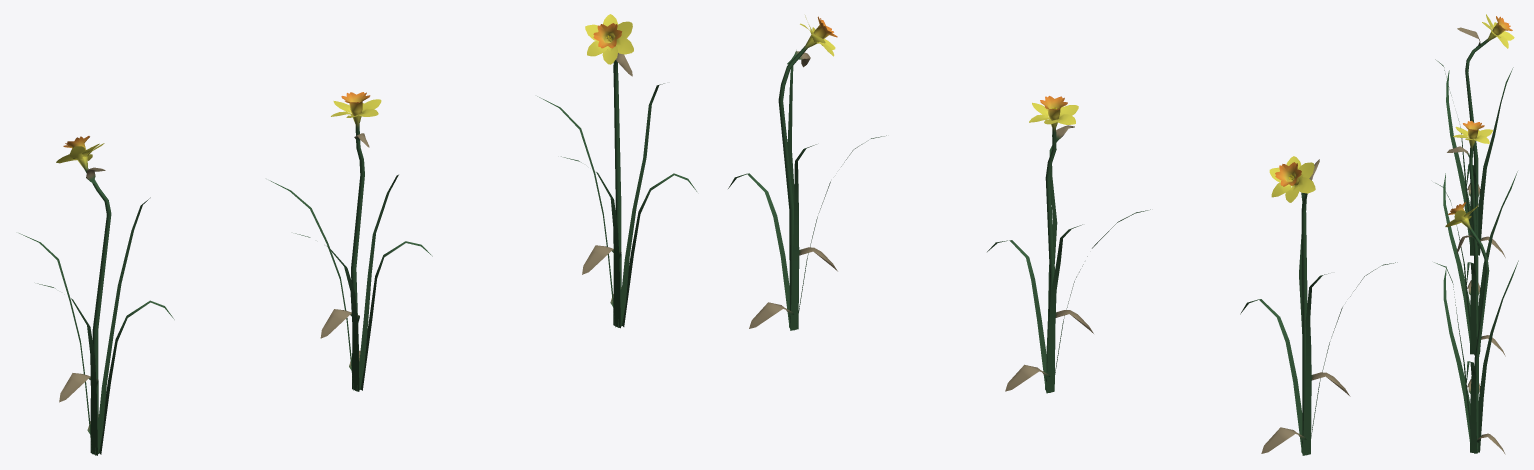
File: Daffodils.fbx
3 views of the same model, side by side, from view 1: azimuth 30°, elevation 25°; view 2: azimuth 150°, elevation 25°; view 3: azimuth 270°, elevation 25° (orthographic). The views are drawn at different scales.
Parts seen in each view (by area): view 1: Daffodil 1, Daffodil 2, Daffodil 3; view 2: Daffodil 2, Daffodil 1, Daffodil 3; view 3: Daffodil 1, Daffodil 3, Daffodil 2.
Part boxes in pixels (box(x1,y1,x2,y2)): Daffodil 1: box(537, 14, 696, 328); Daffodil 2: box(19, 136, 174, 455); Daffodil 3: box(269, 92, 432, 391); Daffodil 2: box(1240, 156, 1397, 455); Daffodil 1: box(728, 15, 886, 330); Daffodil 3: box(987, 96, 1150, 393); Daffodil 1: box(1434, 202, 1518, 454); Daffodil 3: box(1435, 120, 1517, 356); Daffodil 2: box(1435, 14, 1514, 257).
Bounding box in the file's own units: 129 × 57.49 × 19.31.
1 material, 1 textured.
